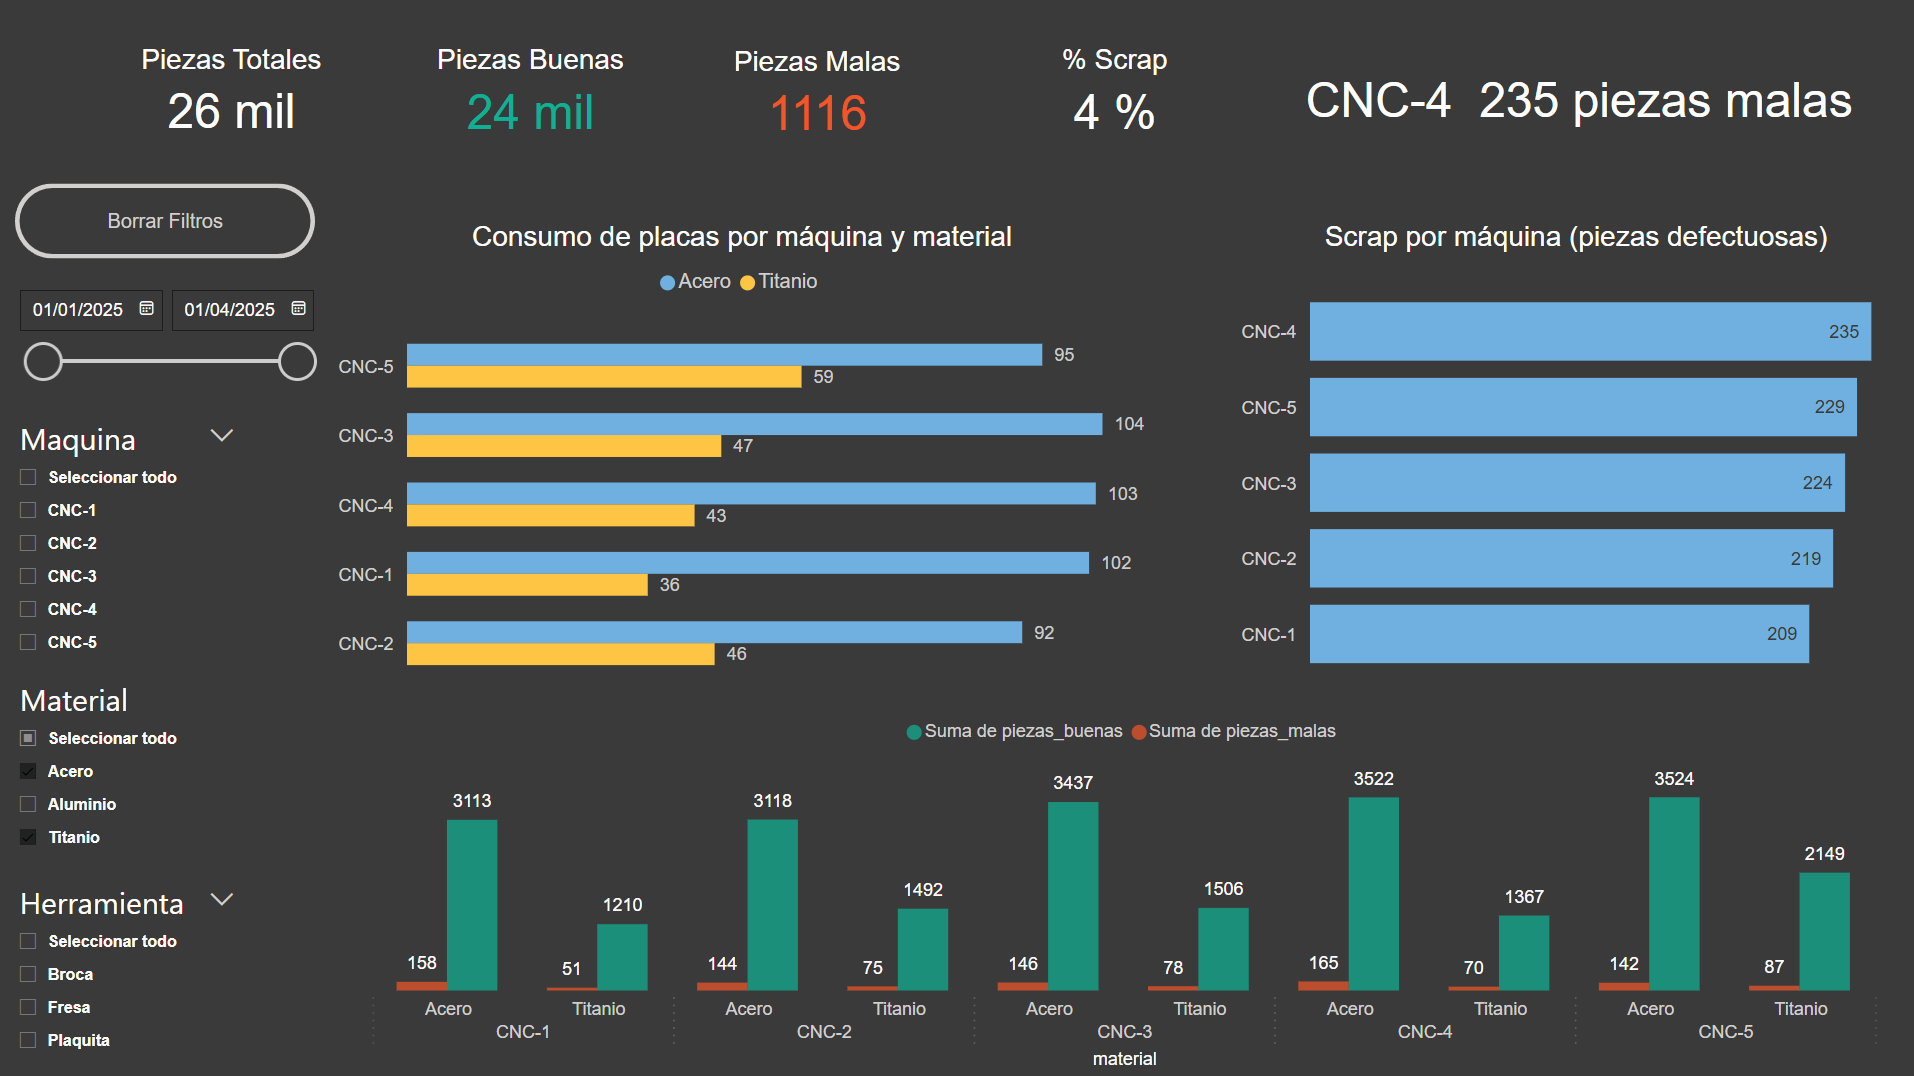

The dashboard page shown, as its layout file describes it:
{"tool":"powerbi","page":{"name":"Página 1","canvas":[1280,720],"ordinal":0},"visuals":[{"type":"clusteredColumnChart","fields":{"Category":["dim_maquinas.nombre_maquina","dim_piezas.material"],"Y":["Sum(fact_produccion.piezas_buenas)","Sum(fact_produccion.piezas_malas)"]},"box":[250.9,471.1,1028.8,248.8],"z":0},{"type":"slicer","title":"Tipo de herramienta","fields":{"Values":["dim_herramientas.tipo_herramienta"]},"box":[0,285.2,167.7,130.7],"z":1000},{"type":"slicer","title":"Nombre de maquina","fields":{"Values":["dim_maquinas.nombre_maquina"]},"box":[0,415.9,144,169.8],"z":2000},{"type":"slicer","fields":{"Values":["dim_piezas.material"]},"box":[0,585.7,136.3,134.2],"z":3000},{"type":"actionButton","box":[10,125,200,50],"z":4000},{"type":"card","title":"Piezas Totales","fields":{"Values":["fact_produccion.Piezas Totales"]},"box":[56.7,31.5,194.5,67.7],"z":5000},{"type":"card","title":"Piezas Buenas","fields":{"Values":["Sum(fact_produccion.piezas_buenas)"]},"box":[251,32,205,67.7],"z":6000},{"type":"card","title":"Piezas Malas","fields":{"Values":["Sum(fact_produccion.piezas_malas)"]},"box":[455.9,32.6,177.4,67],"z":7000},{"type":"card","title":"% Scrap","fields":{"Values":["fact_produccion.Scrap %"]},"box":[633.3,32,220.1,67.7],"z":8000},{"type":"barChart","title":"Scrap Por Maquina","fields":{"Category":["dim_maquinas.nombre_maquina"],"Y":["fact_produccion.Scrap por pieza"]},"box":[821.3,209.7,458.5,261.4],"z":9000},{"type":"clusteredBarChart","title":"Placas Usadas","fields":{"Y":["Sum(fact_produccion.placas_usadas)"],"Category":["dim_maquinas.nombre_maquina"],"Series":["dim_piezas.material"]},"box":[199.9,209.7,570.3,261.4],"z":10000},{"type":"card","fields":{"Values":["fact_produccion.Máquina con más scrap"]},"box":[853.4,32.9,398.4,67.8],"z":11000},{"type":"slicer","fields":{"Values":["fact_produccion.fecha"]},"box":[0,195,219.5,90.2],"z":11001}]}

Visuals, with their boxes in screenshot pixels (x1, y1, x2, y2), scaled from the page's 1280x720 canvas onto the 1914x1076 screenshot:
clusteredColumnChart - dim_maquinas.nombre_maquina x dim_piezas.material: (375, 704, 1913, 1075)
"Tipo de herramienta" slicer: (0, 426, 251, 622)
"Nombre de maquina" slicer: (0, 622, 215, 875)
slicer - dim_piezas.material: (0, 875, 204, 1075)
actionButton: (15, 187, 314, 262)
"Piezas Totales" card: (85, 47, 376, 148)
"Piezas Buenas" card: (375, 48, 682, 149)
"Piezas Malas" card: (682, 49, 947, 149)
"% Scrap" card: (947, 48, 1276, 149)
"Scrap Por Maquina" barChart: (1228, 313, 1913, 704)
"Placas Usadas" clusteredBarChart: (299, 313, 1152, 704)
card - fact_produccion.Máquina con más scrap: (1276, 49, 1872, 150)
slicer - fact_produccion.fecha: (0, 291, 328, 426)
